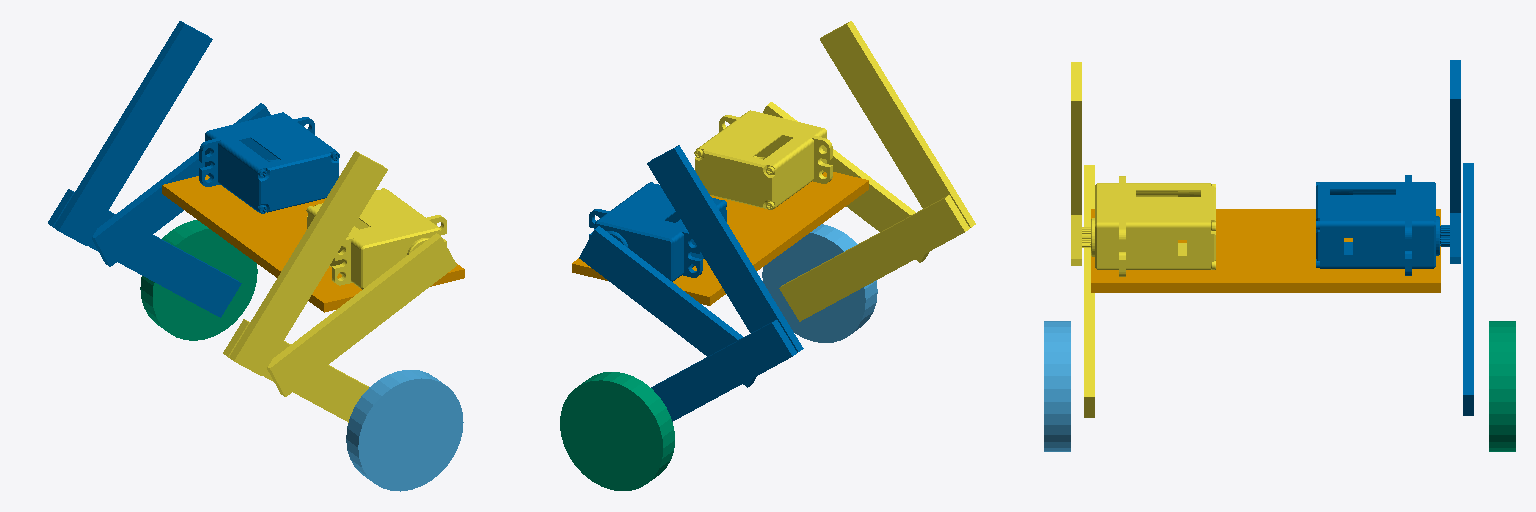
The robot description file, URDF, robot "inverted_pendulum_robot":
<?xml version='1.0' encoding='utf-8'?>
<robot name="inverted_pendulum_robot"><link name="Base_Link"><inertial><mass value="0.250000" /><origin xyz="0.015400 0.019000 0.088650" rpy="0 0 0" /><inertia ixx="0.000133" iyy="0.000033" izz="0.000167" ixy="0.000000" ixz="0.000000" iyz="0.000000" /></inertial><visual><origin xyz="0.015400 0.019000 0.088650" rpy="0 0 0" /><geometry><box size="0.040000 0.080000 0.002500" /></geometry></visual><collision><origin xyz="0.015400 0.019000 0.088650" rpy="0 0 0" /><geometry><box size="0.040000 0.080000 0.002500" /></geometry></collision></link><link name="Wheel_Left"><inertial><mass value="0.030000" /><origin xyz="0.000000 0.000000 0.000000" rpy="0 0 0" /><inertia ixx="0.000002" iyy="0.000003" izz="0.000002" ixy="0.000000" ixz="0.000000" iyz="0.000000" /></inertial><visual><origin xyz="0.000000 0.000000 0.000000" rpy="-1.570796 0 0" /><geometry><cylinder radius="0.015000" length="0.006000" /></geometry></visual><collision><origin xyz="0.000000 0.000000 0.000000" rpy="-1.570796 0 0" /><geometry><cylinder radius="0.015000" length="0.006000" /></geometry></collision></link><link name="Wheel_Right"><inertial><mass value="0.030000" /><origin xyz="0.000000 0.000000 0.000000" rpy="0 0 0" /><inertia ixx="0.000002" iyy="0.000003" izz="0.000002" ixy="0.000000" ixz="0.000000" iyz="0.000000" /></inertial><visual><origin xyz="0.000000 0.000000 0.000000" rpy="-1.570796 0 0" /><geometry><cylinder radius="0.015000" length="0.006000" /></geometry></visual><collision><origin xyz="0.000000 0.000000 0.000000" rpy="-1.570796 0 0" /><geometry><cylinder radius="0.015000" length="0.006000" /></geometry></collision></link><link name="Pendulum_Link"><inertial><mass value="0.175000" /><origin xyz="0.013010 0.018879 0.002540" rpy="0 0 0" /><inertia ixx="0.000111" iyy="0.000088" izz="0.000186" ixy="0.000045" ixz="-0.000002" iyz="0.000008" /></inertial><visual><origin xyz="-0.002980 0.032800 0.006000" rpy="0.000000 -0.000000 0.926770" /><geometry><box size="0.060000 0.010000 0.002500" /></geometry></visual><visual><origin xyz="0.012000 0.015260 0.006000" rpy="0.000000 -0.000000 0.464258" /><geometry><box size="0.054720 0.010000 0.002500" /></geometry></visual><visual><origin xyz="0.002010 -0.002230 0.003000" rpy="0.000000 -0.000000 -0.644026" /><geometry><box size="0.060000 0.010000 0.002500" /></geometry></visual><visual><origin xyz="0.026169 0.025377 -0.009900" rpy="0.000000 0.000000 0.000000" /><geometry><mesh filename="package://inverted_pendulum_robot/meshes/feetech-STS3032-visual.stl" scale="0.001000 0.001000 0.001000" /></geometry></visual><collision><origin xyz="0.004540 0.015904 0.004991" rpy="0 0 0" /><geometry><box size="0.059984 0.080033 0.005500" /></geometry></collision><collision><origin xyz="0.031489 0.025370 -0.002807" rpy="0 0 0" /><geometry><box size="0.032000 0.012000 0.028000" /></geometry></collision><collision><origin xyz="0.031489 0.039370 0.005193" rpy="0 0 0" /><geometry><cylinder radius="0.004650" length="0.016150" /></geometry></collision></link><link name="Pendulum_Link_Right"><inertial><mass value="0.175000" /><origin xyz="0.013010 0.019784 0.006206" rpy="0 0 0" /><inertia ixx="0.000123" iyy="0.000092" izz="0.000195" ixy="0.000050" ixz="0.000018" iyz="0.000025" /></inertial><visual><origin xyz="-0.002980 0.035800 0.000000" rpy="0.000000 -0.000000 0.926770" /><geometry><box size="0.060000 0.010000 0.002500" /></geometry></visual><visual><origin xyz="0.012000 0.018260 0.000000" rpy="0.000000 -0.000000 0.464258" /><geometry><box size="0.054720 0.010000 0.002500" /></geometry></visual><visual><origin xyz="0.002010 0.000770 -0.003000" rpy="0.000000 -0.000000 -0.644026" /><geometry><box size="0.060000 0.010000 0.002500" /></geometry></visual><visual><origin xyz="0.026169 0.028243 0.015950" rpy="3.141593 0.000000 0.000000" /><geometry><mesh filename="package://inverted_pendulum_robot/meshes/feetech-STS3032-visual.stl" scale="0.001000 0.001000 0.001000" /></geometry></visual><collision><origin xyz="0.004540 0.015904 0.004991" rpy="0 0 0" /><geometry><box size="0.059984 0.080033 0.005500" /></geometry></collision><collision><origin xyz="0.031489 0.028250 0.008857" rpy="3.141593 0.000000 0.000000" /><geometry><box size="0.032000 0.012000 0.028000" /></geometry></collision><collision><origin xyz="0.031489 0.014250 0.000857" rpy="3.141593 0.000000 0.000000" /><geometry><cylinder radius="0.004650" length="0.016150" /></geometry></collision></link><joint name="wheel_left_joint" type="revolute"><parent link="Base_Link" /><child link="Wheel_Left" /><origin xyz="0.014001 -0.028526 0.054010" rpy="0.000000 0.000000 0.000000" /><axis xyz="0.000000 1.000000 0.000000" /><limit effort="1.0" velocity="1.0" /></joint><joint name="wheel_right_joint" type="revolute"><parent link="Base_Link" /><child link="Wheel_Right" /><origin xyz="0.014001 0.073026 0.054010" rpy="0.000000 0.000000 0.000000" /><axis xyz="0.000000 1.000000 0.000000" /><limit effort="1.0" velocity="1.0" /></joint><joint name="pendulum_pivot_joint" type="revolute"><parent link="Base_Link" /><child link="Pendulum_Link" /><origin xyz="-0.008001 -0.018276 0.070750" rpy="1.570796 0.000000 0.000000" /><axis xyz="0.000000 0.000000 -1.000000" /><limit effort="1.0" velocity="1.0" /></joint><joint name="pendulum_pivot_right_joint" type="revolute"><parent link="Base_Link" /><child link="Pendulum_Link_Right" /><origin xyz="-0.008001 0.062276 0.068250" rpy="1.570796 0.000000 0.000000" /><axis xyz="0.000000 0.000000 -1.000000" /><limit effort="1.0" velocity="1.0" /></joint></robot>

--- Render facts (derived) ---
3 views of the same robot in one strip: view 1: azimuth 30°, elevation 25°; view 2: azimuth 150°, elevation 25°; view 3: azimuth 270°, elevation 25° (orthographic).
Robot: inverted_pendulum_robot — 5 links, 4 joints (4 revolute); root link Base_Link; default pose: every joint at zero.
Visible links, largest first — view 1: Pendulum_Link_Right, Pendulum_Link, Wheel_Left, Base_Link, Wheel_Right; view 2: Pendulum_Link, Pendulum_Link_Right, Wheel_Right, Base_Link, Wheel_Left; view 3: Pendulum_Link_Right, Pendulum_Link, Base_Link, Wheel_Left, Wheel_Right.
Boxes of the visible links, box(x1,y1,x2,y2) form: Pendulum_Link_Right: box(48, 21, 339, 317); Pendulum_Link: box(223, 151, 456, 422); Wheel_Left: box(346, 370, 463, 491); Base_Link: box(162, 175, 464, 312); Wheel_Right: box(140, 220, 257, 340); Pendulum_Link: box(694, 21, 975, 321); Pendulum_Link_Right: box(579, 145, 803, 421); Wheel_Right: box(560, 372, 674, 490); Base_Link: box(572, 172, 868, 305); Wheel_Left: box(762, 224, 877, 342); Pendulum_Link_Right: box(1316, 60, 1473, 415); Pendulum_Link: box(1071, 62, 1215, 417); Base_Link: box(1091, 209, 1440, 292); Wheel_Left: box(1044, 321, 1070, 451); Wheel_Right: box(1489, 321, 1515, 451).
Size in the robot's own frame: 0.0684 by 0.1076 by 0.092 metres.
2 mesh visuals loaded from 1 distinct referenced files (1 binary STL).
